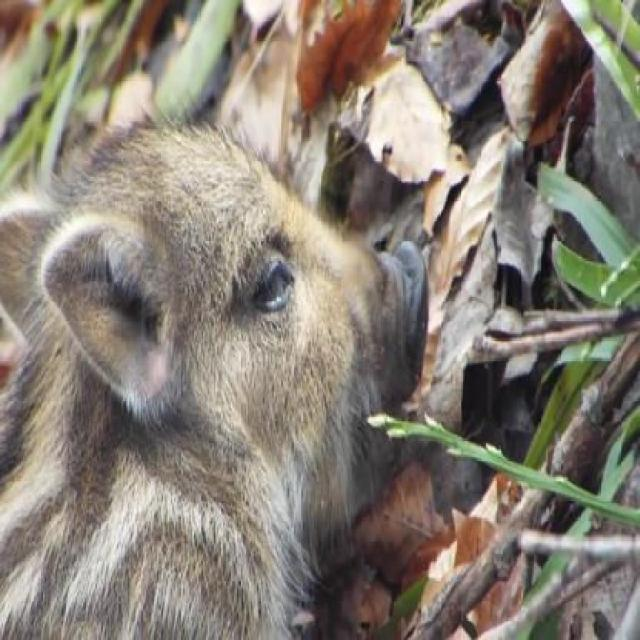wildboar: (0, 100, 432, 640)
